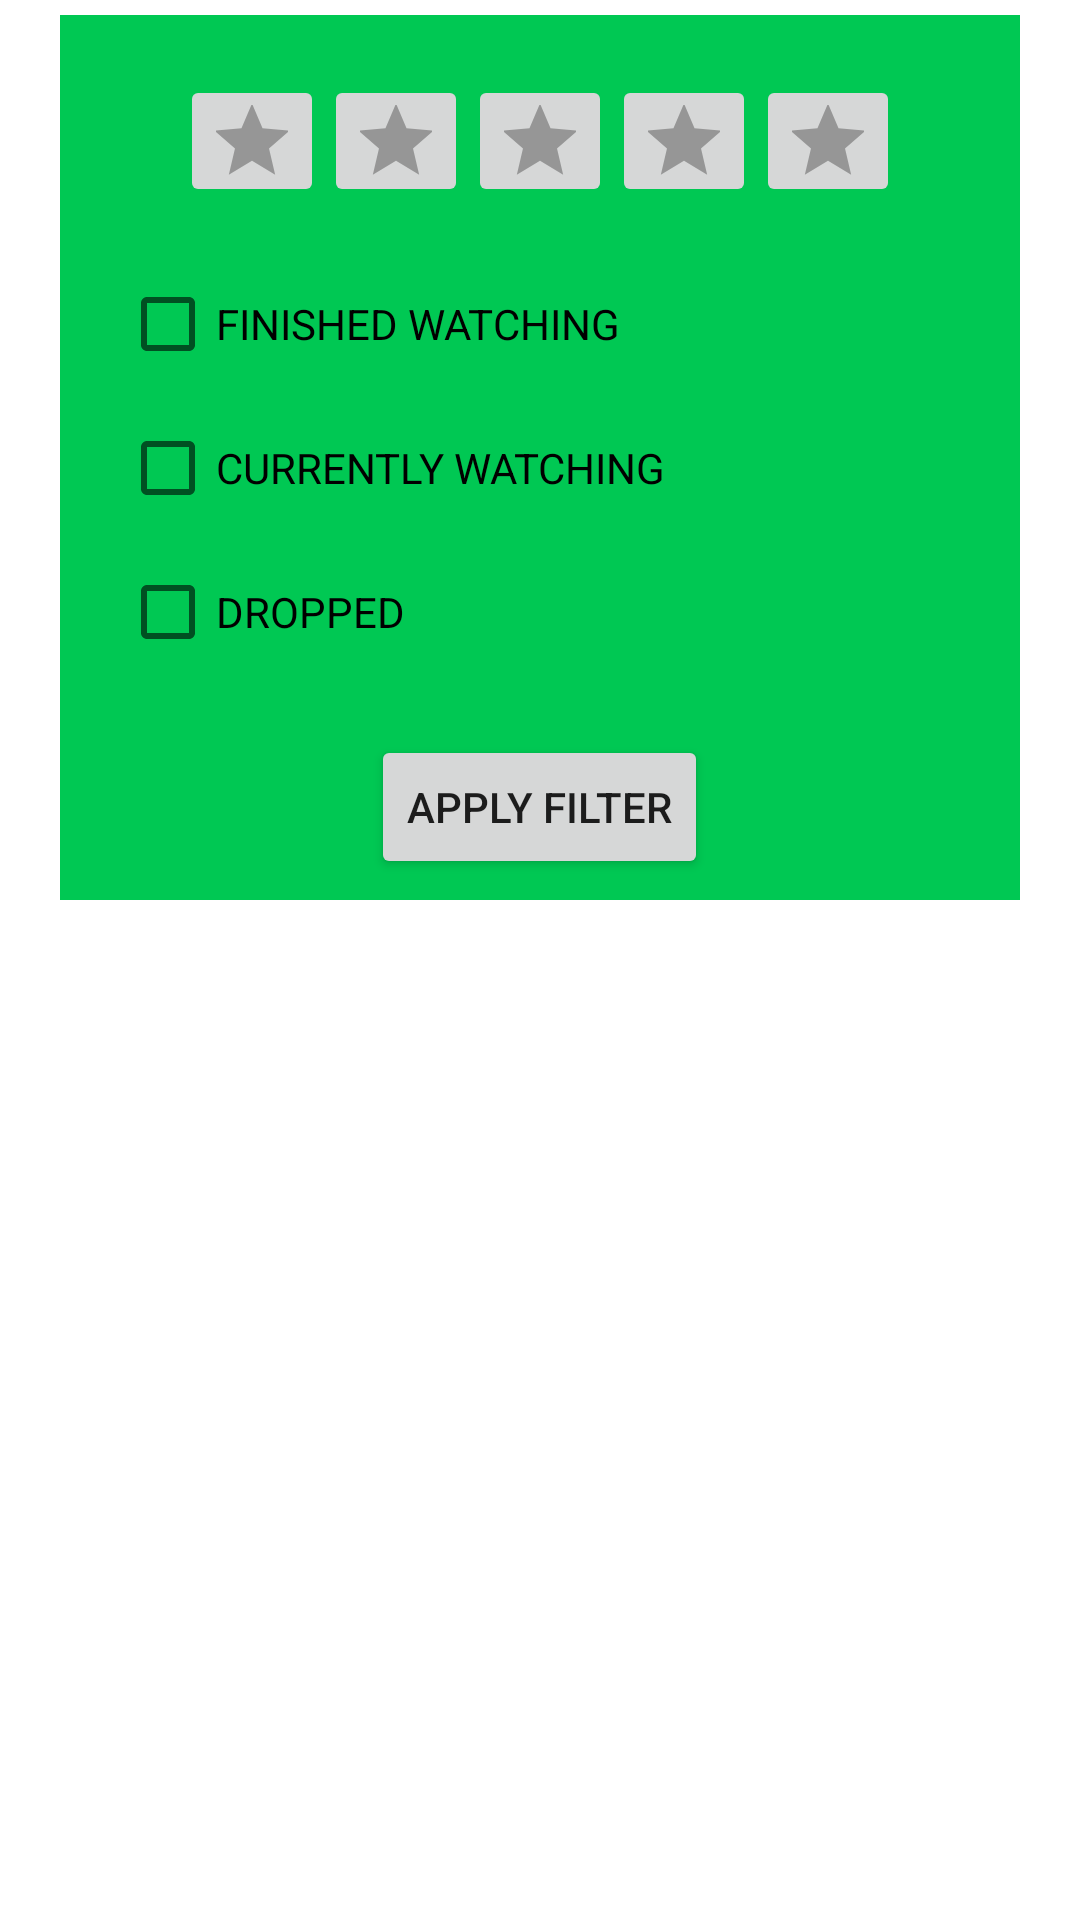

Where icons sit on this 1080px x 1920px app screen, as box(x1, y1, x2, y2):
star empty: box(192, 93, 312, 189), box(336, 93, 456, 189), box(480, 93, 600, 189), box(624, 93, 744, 189), box(768, 93, 888, 189)
